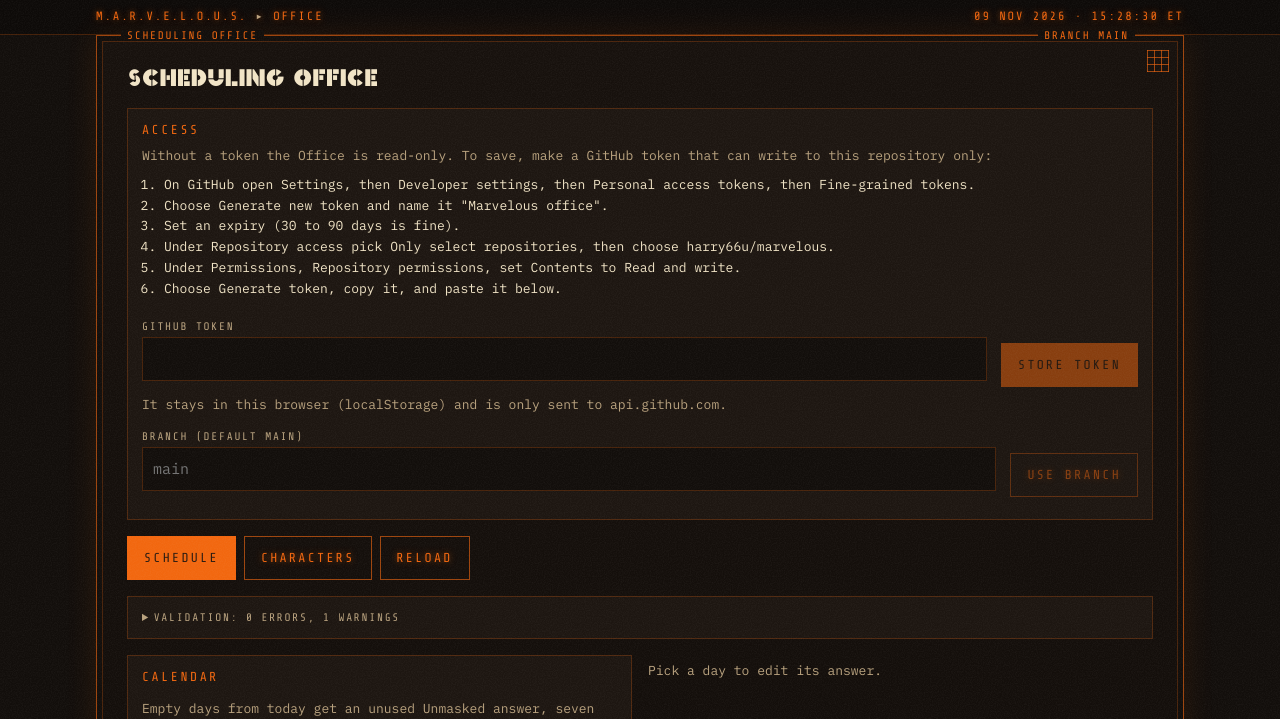
Test case: OfficePage › shows the token steps and stores a pasted token
expect the list item "Fine-grained tokens" is shown: met, box [164,176,975,193]
Type "ghp_test" into the password field labelled "GitHub token" at coordinates (564, 359), box [142,337,987,381]
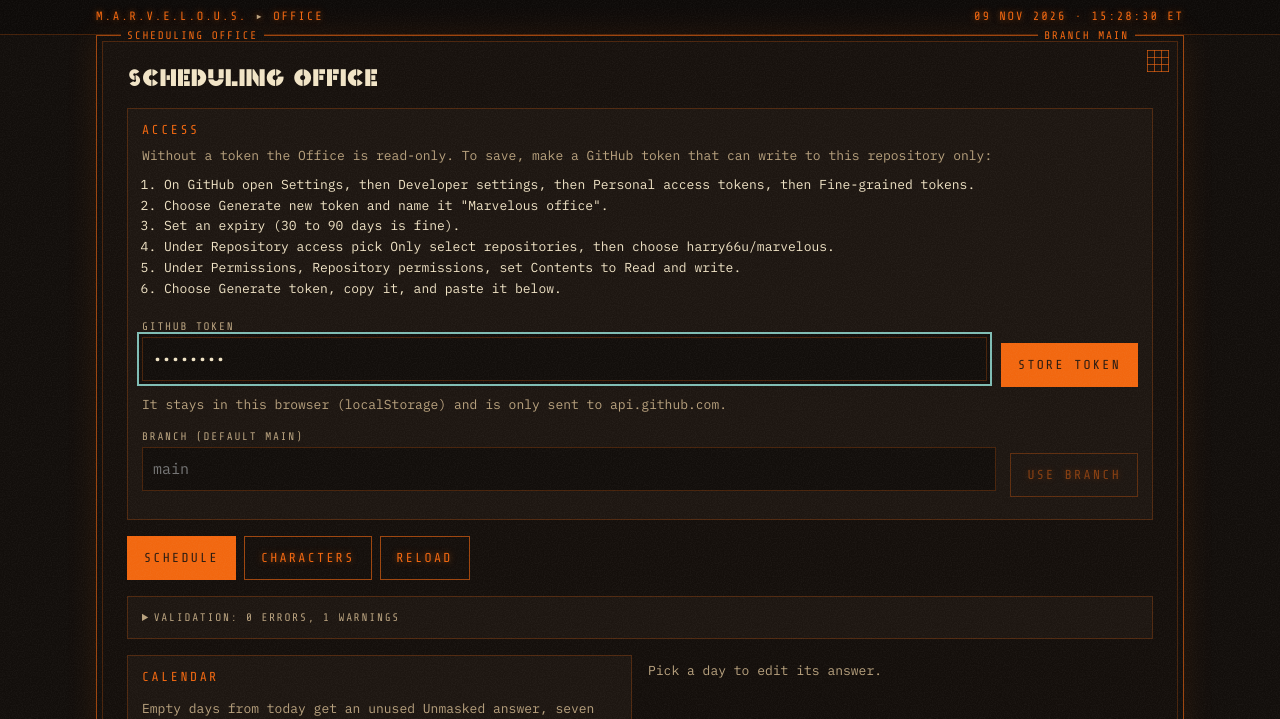
Click the button "Store token" at coordinates (1070, 365), box [1001,343,1138,387]
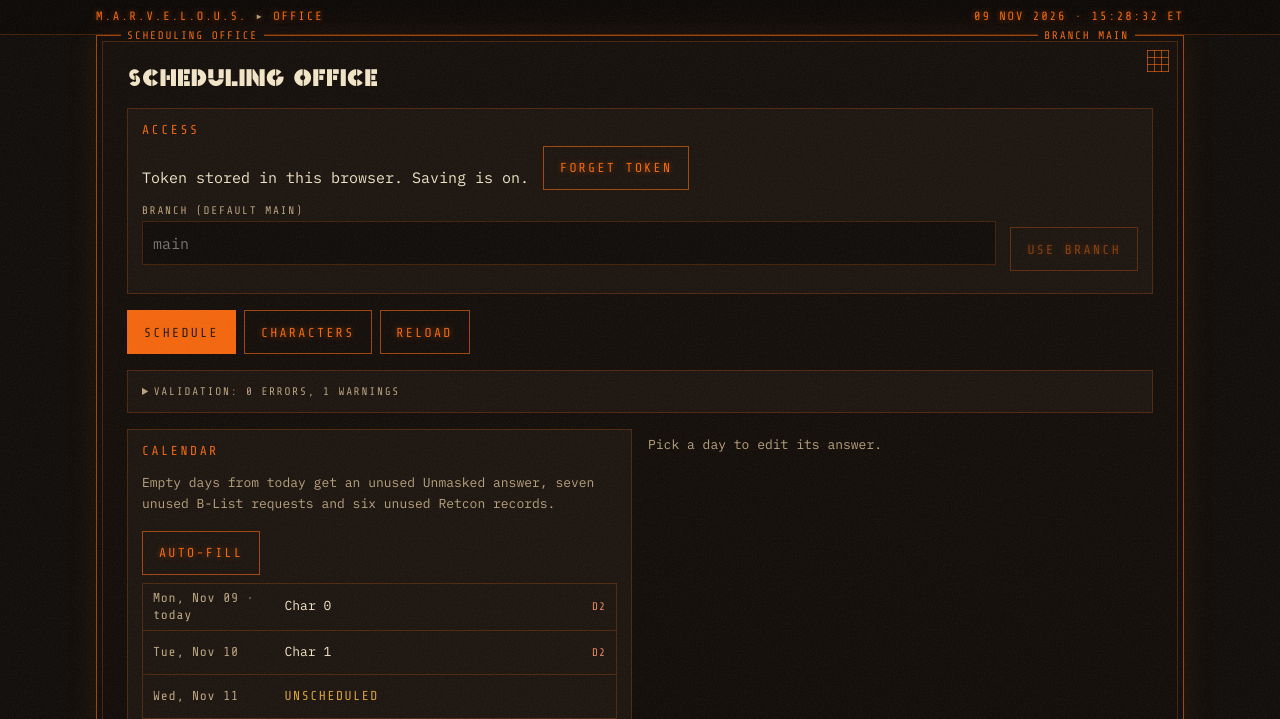
expect the button "Forget token" is shown: met, box [543,146,689,190]
